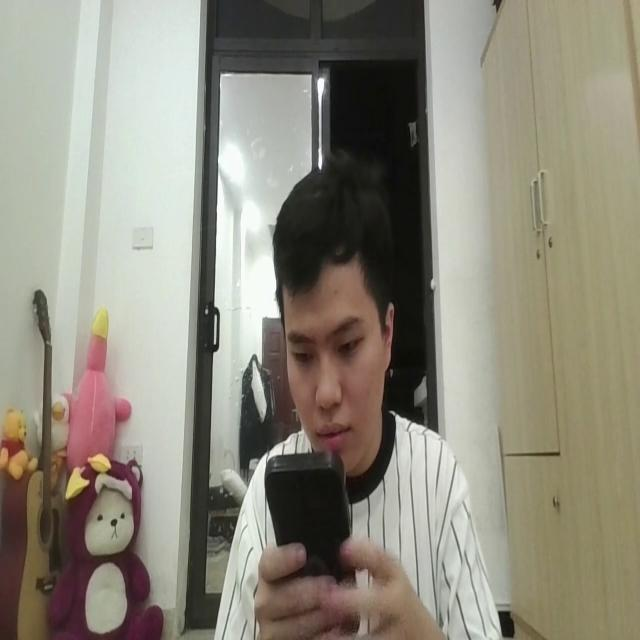phone: (262, 444, 362, 632)
student: (216, 144, 500, 640)
